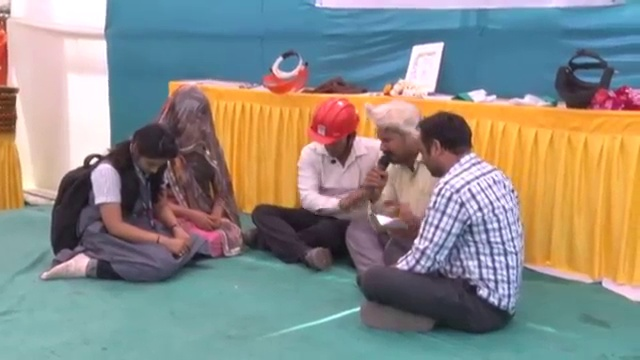helmet: (304, 97, 360, 147)
helmet_off: (415, 110, 477, 182), (161, 86, 216, 156), (123, 119, 180, 184), (372, 101, 423, 170)
helmet_on: (307, 96, 361, 162)
person: (357, 103, 523, 329), (43, 123, 193, 284), (252, 87, 375, 262), (151, 74, 243, 259), (346, 101, 446, 270)
